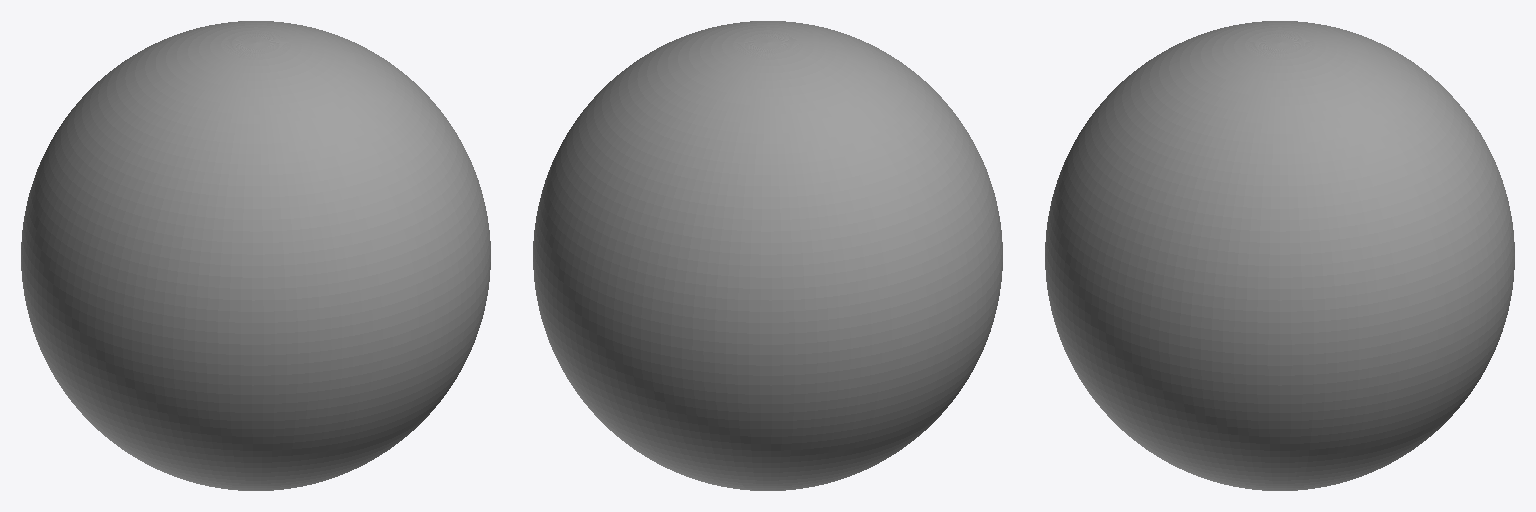
The model's file is earth.obj.
3 views of the same model, side by side, from view 1: azimuth 30°, elevation 25°; view 2: azimuth 150°, elevation 25°; view 3: azimuth 270°, elevation 25° (orthographic).
Visible parts, largest first — view 1: Sphere; view 2: Sphere; view 3: Sphere.
Boxes of the visible parts, box(x1,y1,x2,y2) form: Sphere: box(21, 21, 490, 490); Sphere: box(533, 21, 1002, 490); Sphere: box(1045, 21, 1514, 490).
Size of the model in its own units: 9.98 by 10 by 9.98.